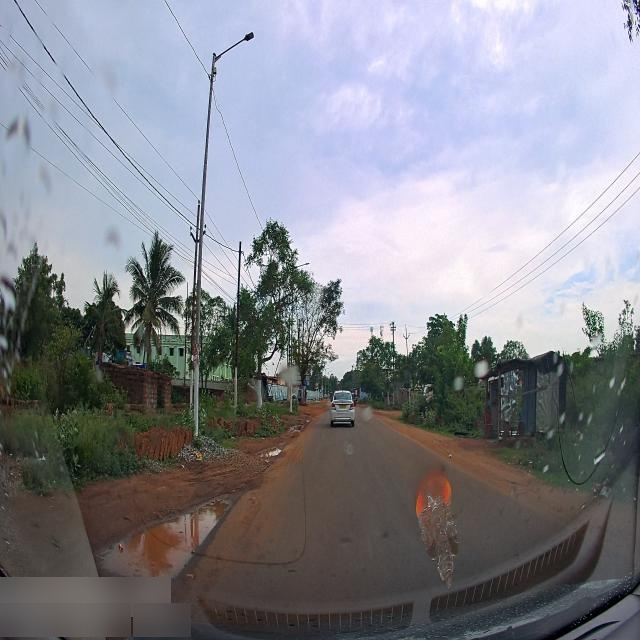pothole: (108, 497, 236, 578), (261, 445, 282, 460)
